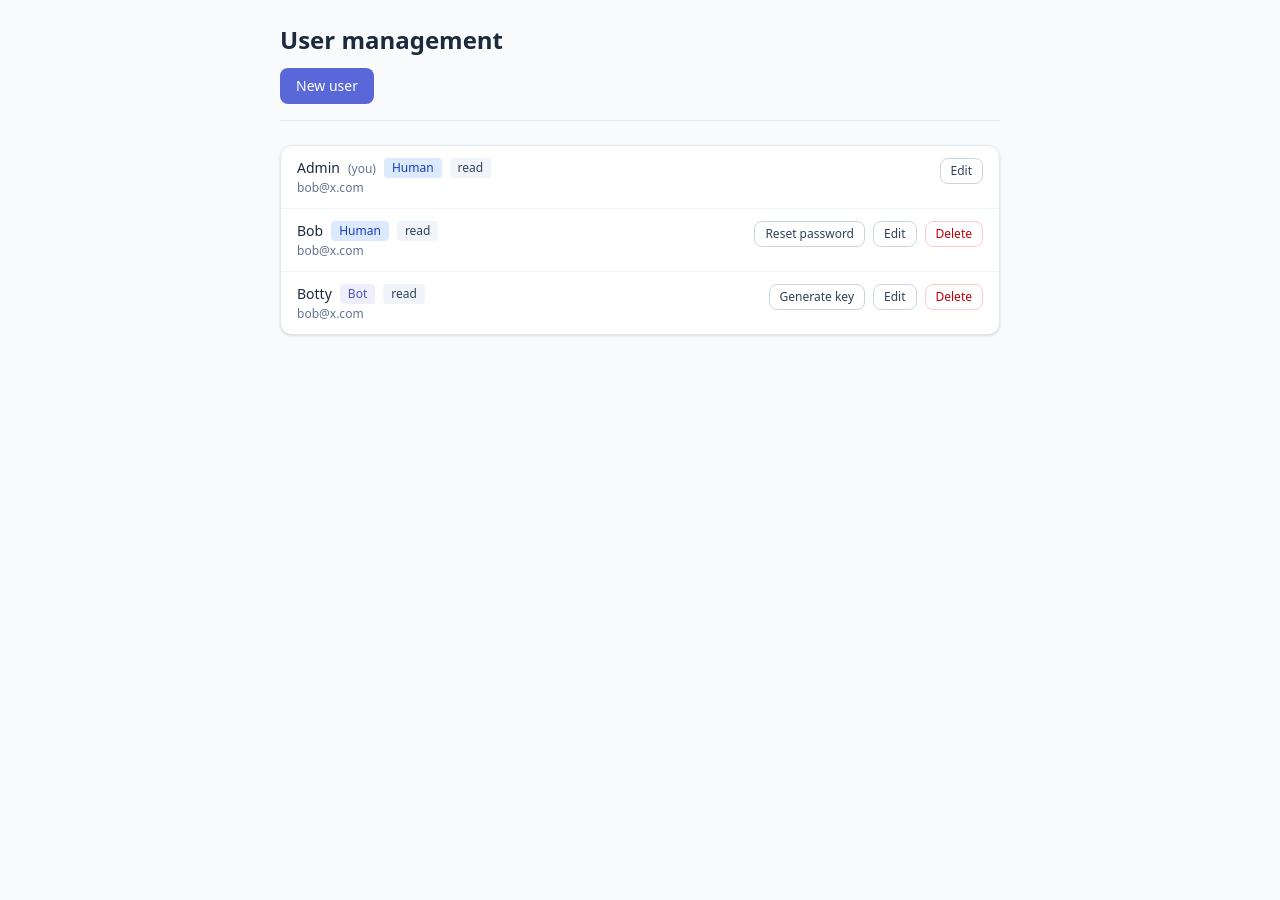
UserManagement reset password › sets a new password for another human user
Expected: the text "Bob" is shown, [297,221,323,241]
Click the button "Reset password" at coordinates (810, 234), box [754,221,865,247]
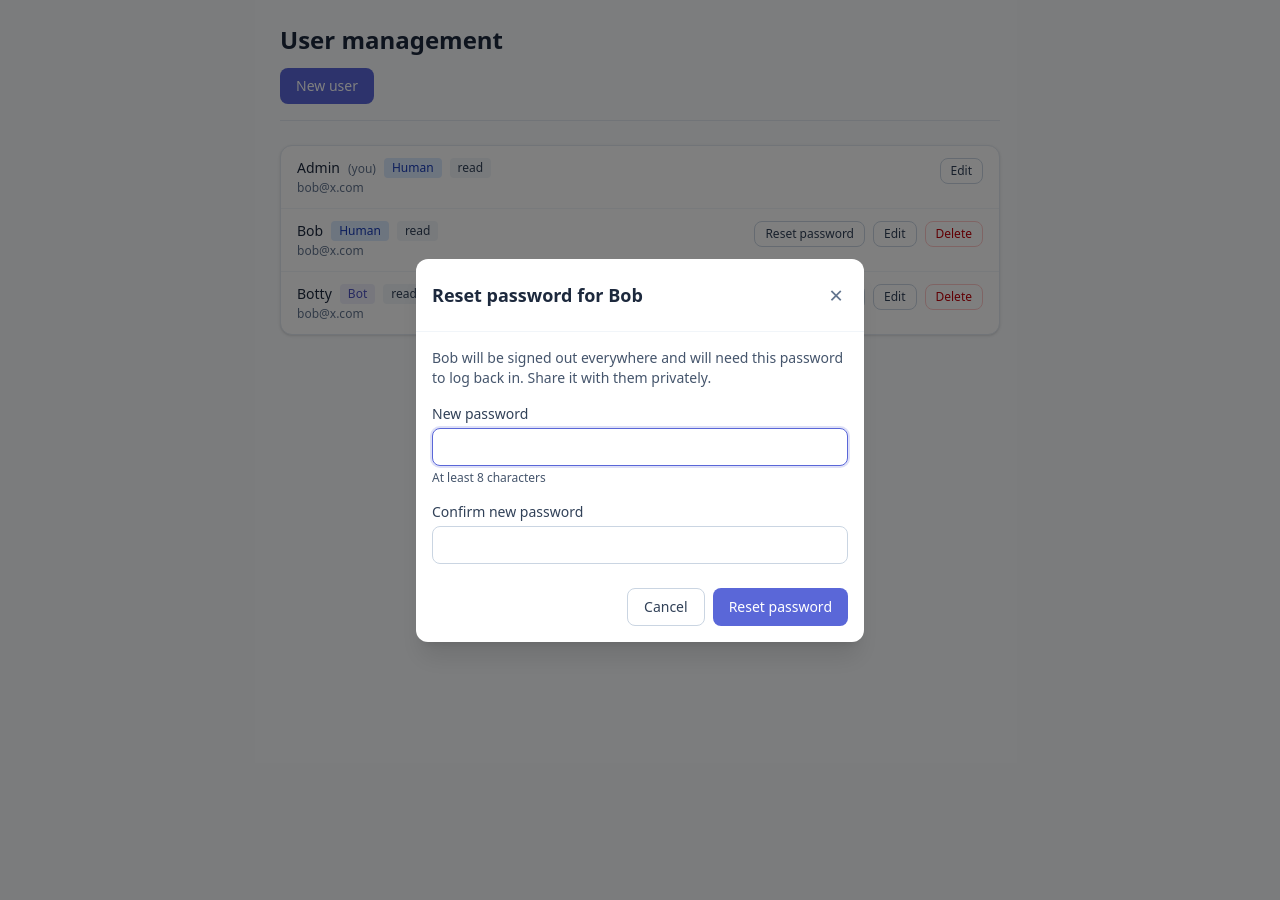
Type "newpass12" into the password field labelled "New password" at coordinates (640, 446), box [432,428,848,466]
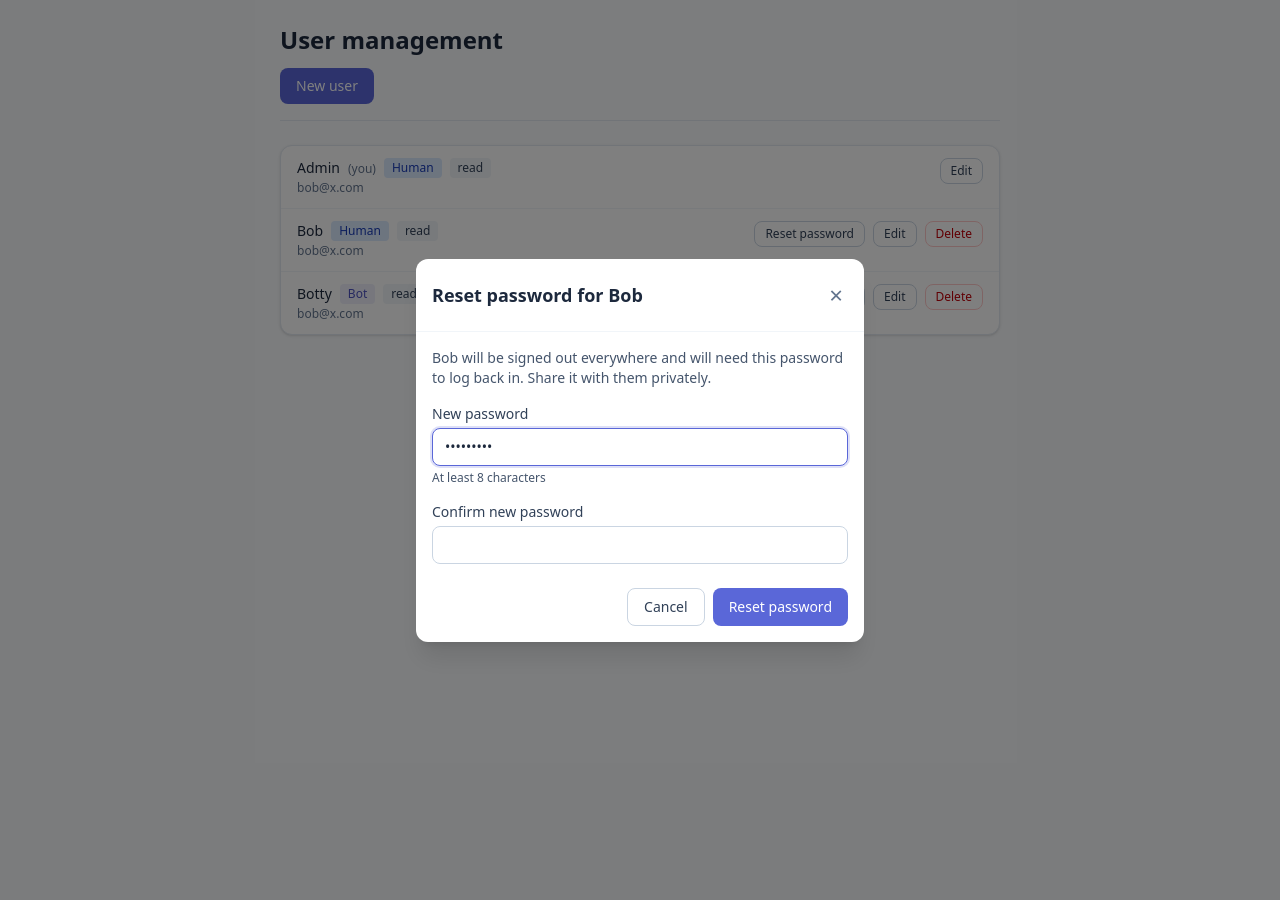
Type "newpass12" into the password field labelled "Confirm new password" at coordinates (640, 544), box [432,526,848,564]
Then press Enter
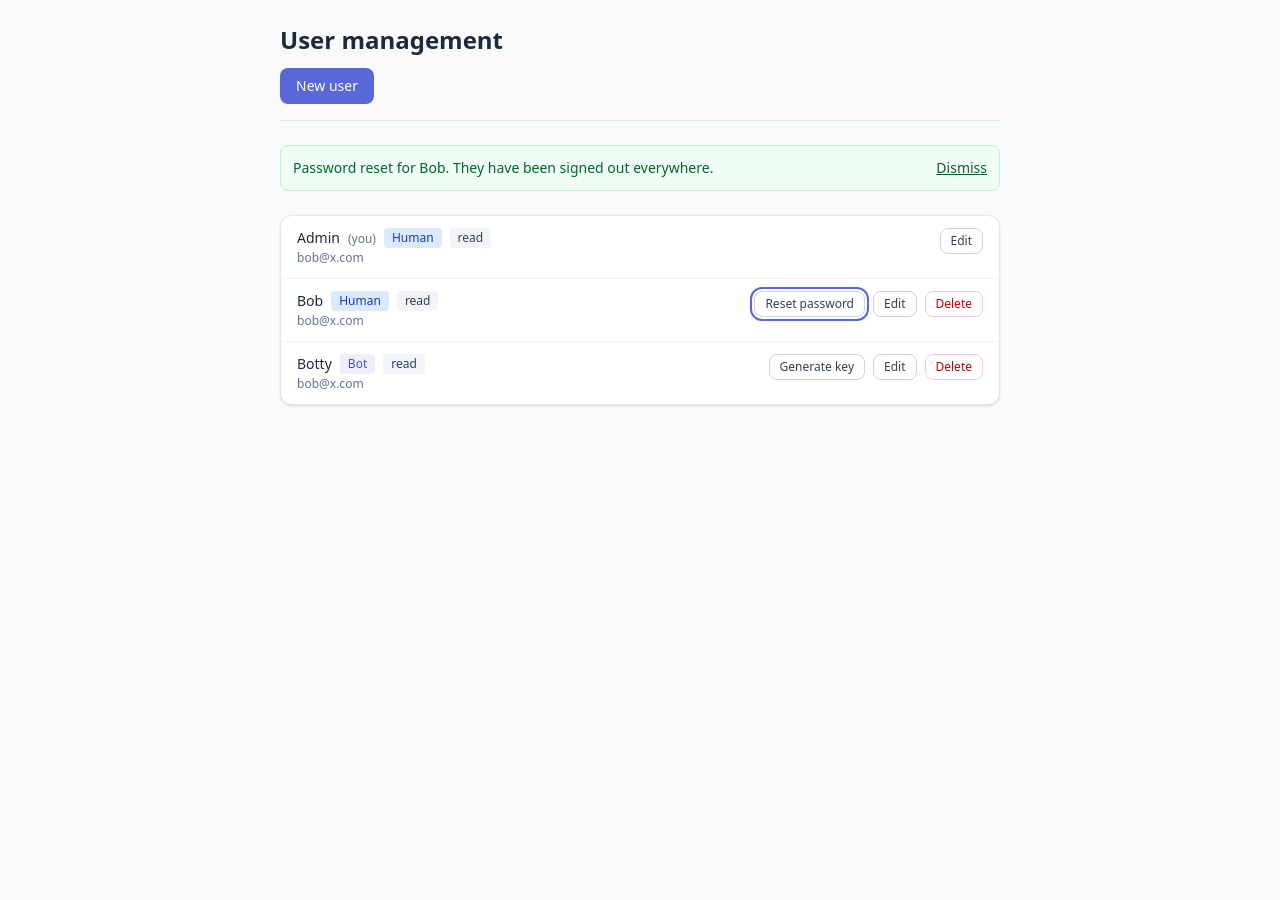
Now the text "Password reset for Bob. They have been signed out everywhere." is shown, box [293,158,713,178]
